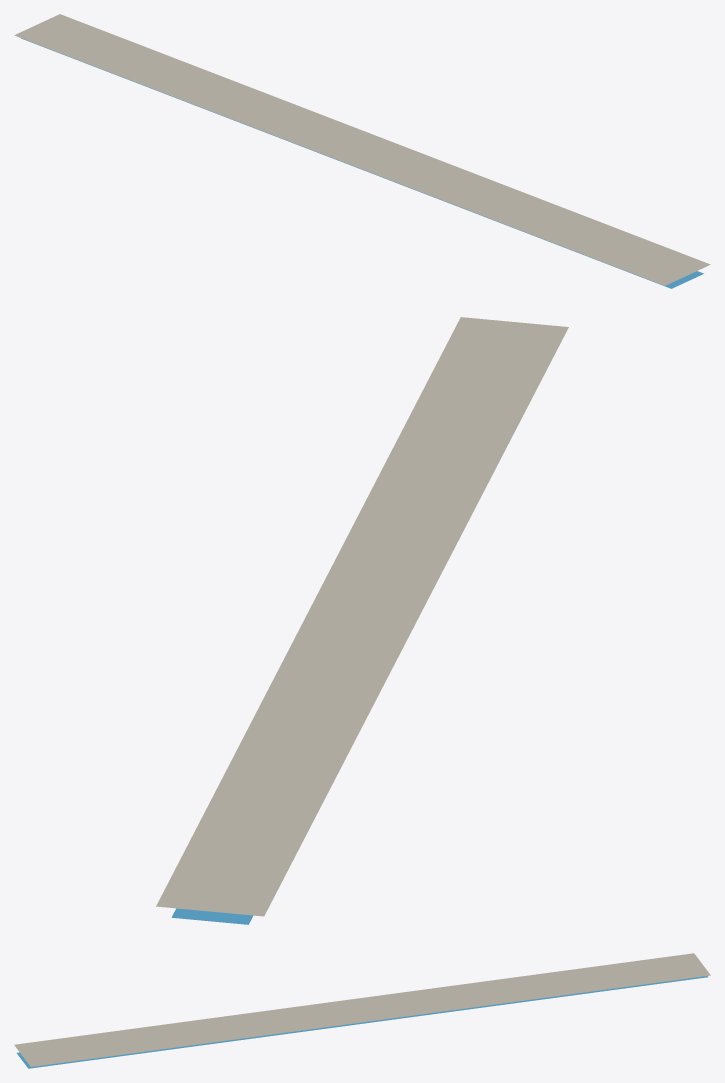
3 views of the same model, one above another, from view 1: azimuth 30°, elevation 25°; view 2: azimuth 150°, elevation 25°; view 3: azimuth 270°, elevation 25° (orthographic). The views are drawn at different scales.
Parts seen in each view (by area): view 1: estructura_terreno, estructura_agua; view 2: estructura_terreno; view 3: estructura_terreno, estructura_agua.
Boxes of the visible parts, left/top/right/bottom form: estructura_terreno: left=14, top=14, right=710, bottom=285; estructura_agua: left=21, top=38, right=703, bottom=288; estructura_terreno: left=156, top=317, right=568, bottom=916; estructura_terreno: left=14, top=953, right=710, bottom=1066; estructura_agua: left=17, top=976, right=708, bottom=1068.
Bounding box in the file's own units: 20.43 × 0.41 × 52.84.
